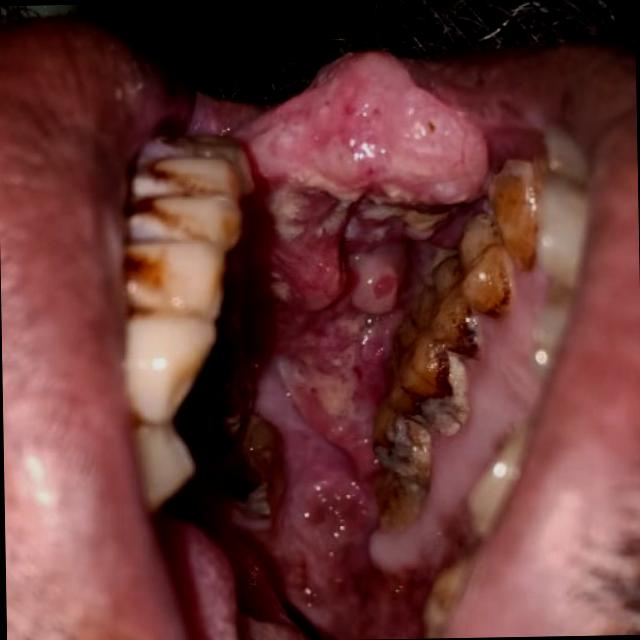Cancer: (242, 51, 488, 260), (240, 372, 372, 610)
